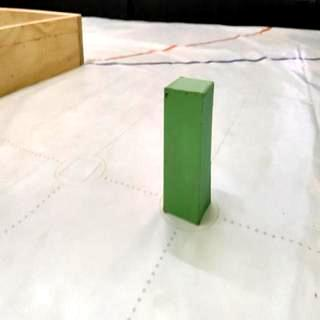greenbox: (162, 74, 216, 226)
